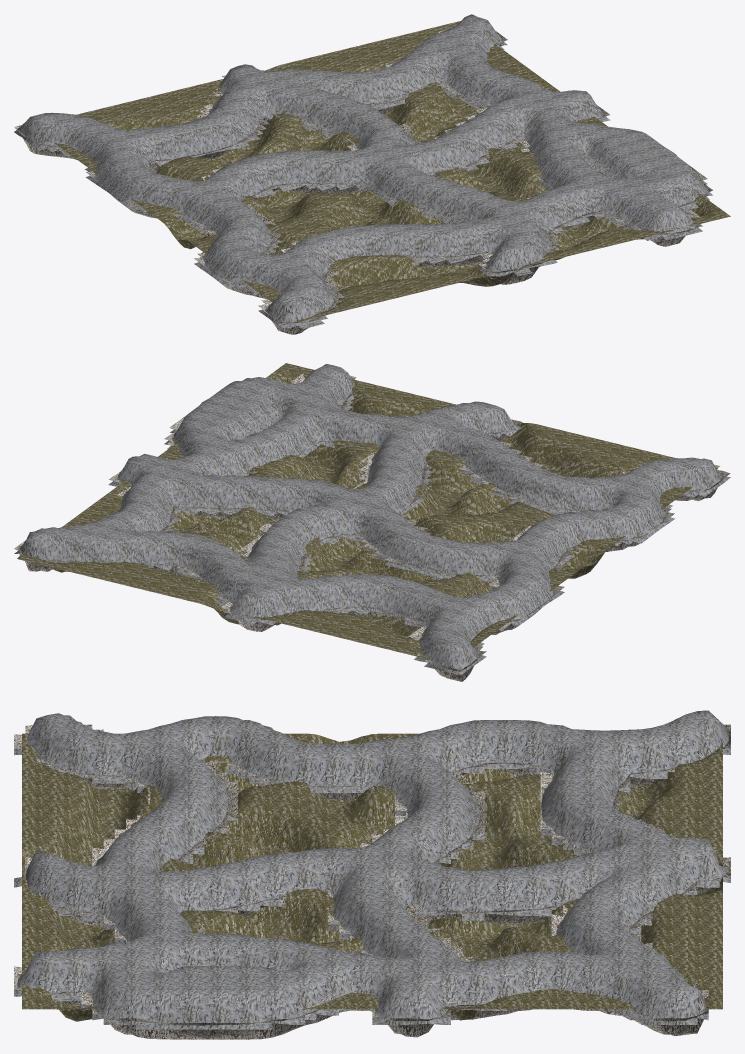
Rendered from map_endg.FBX.
3 renders of one model, top to bottom at view 1: azimuth 30°, elevation 25°; view 2: azimuth 150°, elevation 25°; view 3: azimuth 270°, elevation 25°, orthographic. The views are drawn at different scales.
Visible parts, largest first — view 1: map_endg12, map_endg1; view 2: map_endg12, map_endg1; view 3: map_endg12, map_endg1.
Part boxes in pixels (x1,y1,x2,y2): map_endg12: [14, 14, 712, 334]; map_endg1: [54, 21, 730, 321]; map_endg12: [14, 364, 730, 681]; map_endg1: [18, 363, 717, 661]; map_endg12: [14, 710, 730, 1039]; map_endg1: [22, 733, 722, 1021].
Bounding box in the file's own units: 492 × 500 × 39.3.
